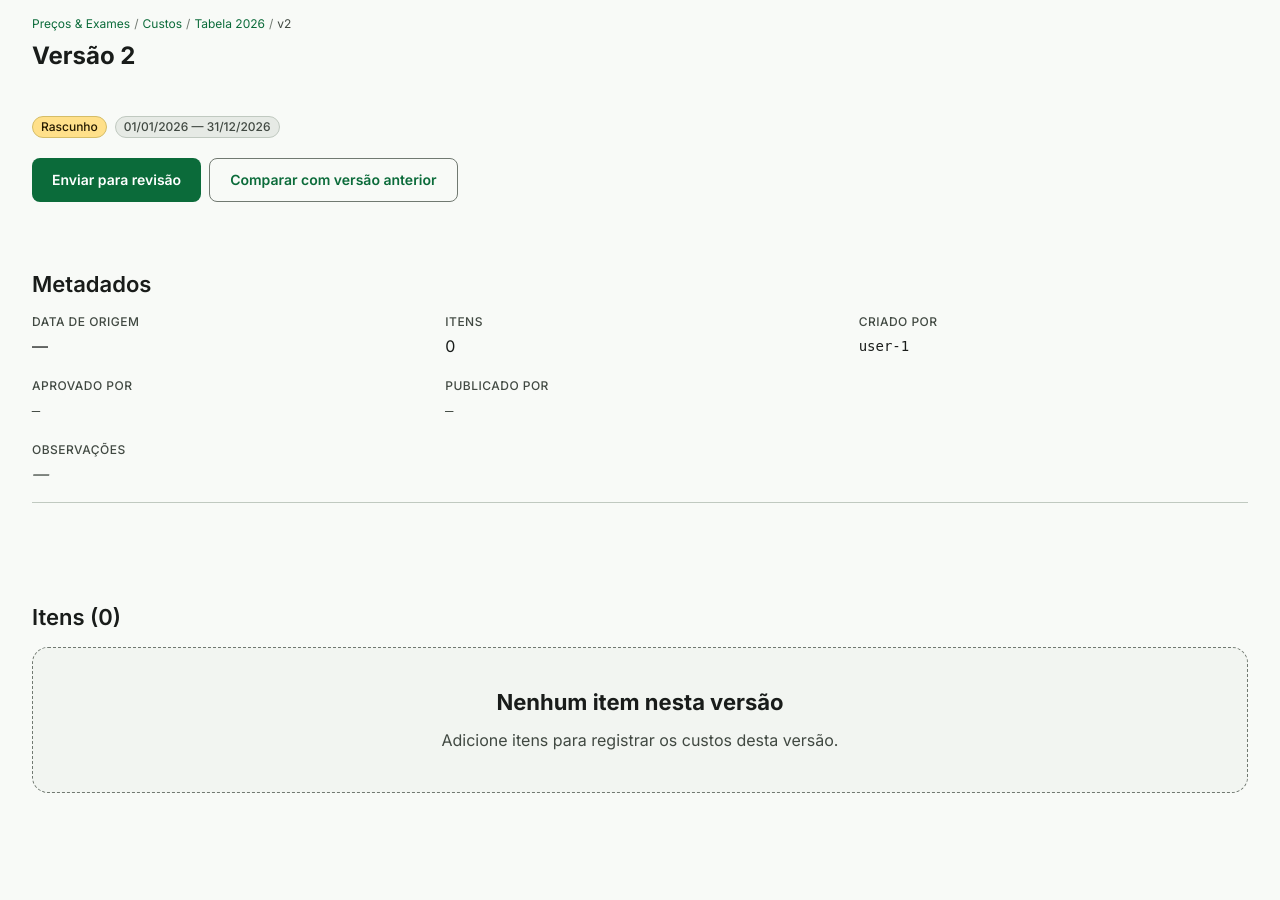
it: VersionDetailPage workflow (UI-WF01..06) › UI-WF05: RPC failure surfaces a friendly error message
This screenshot has width=1280, height=900.
Expected: the heading "Versão 2" is shown, top-left (32, 41), bottom-right (135, 70)
Click the button "Enviar para revisão".
click(117, 180)  # box top-left (32, 158), bottom-right (201, 202)
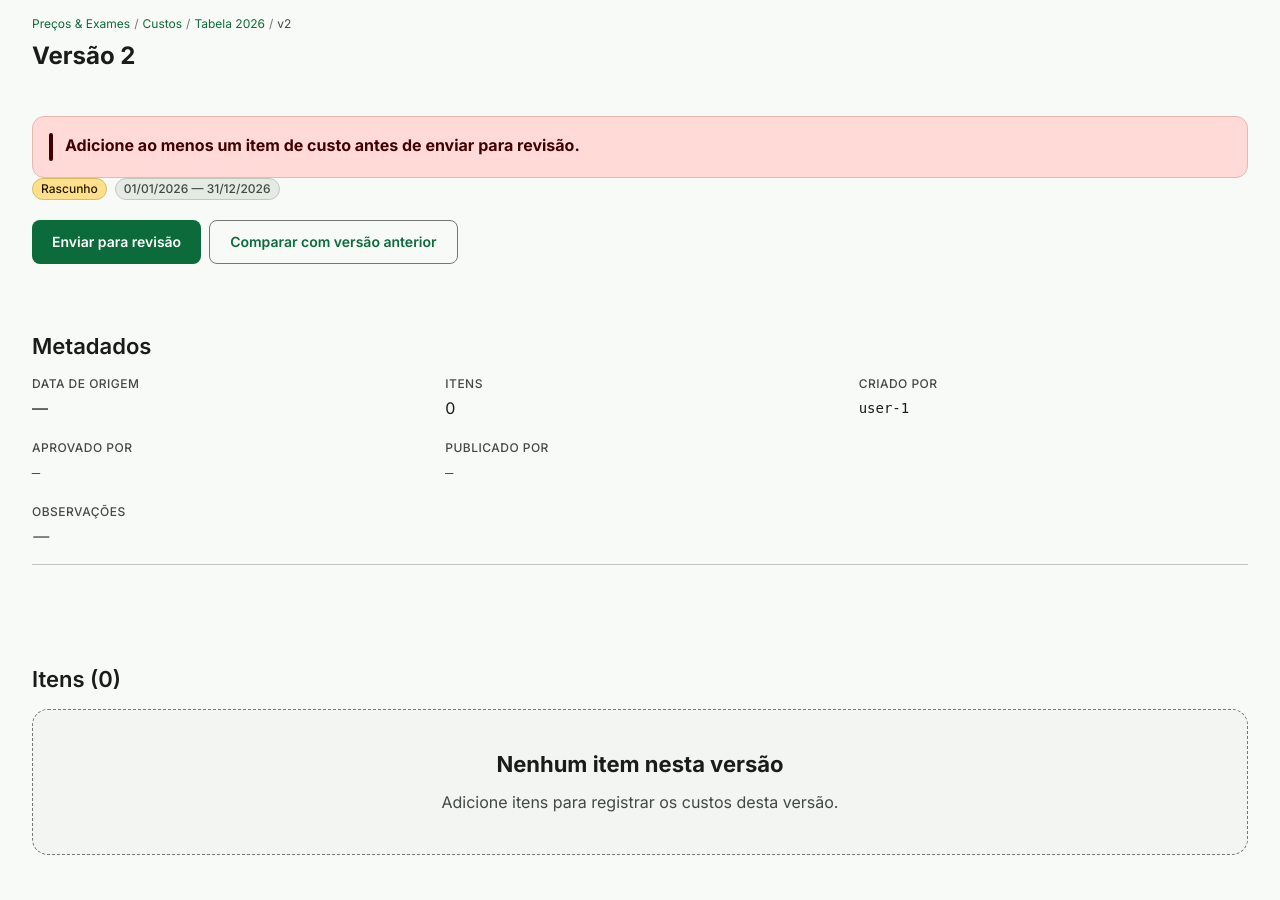
Expected: the text "Adicione ao menos um item de custo antes de enviar para revisão." is shown, top-left (65, 135), bottom-right (580, 155)
